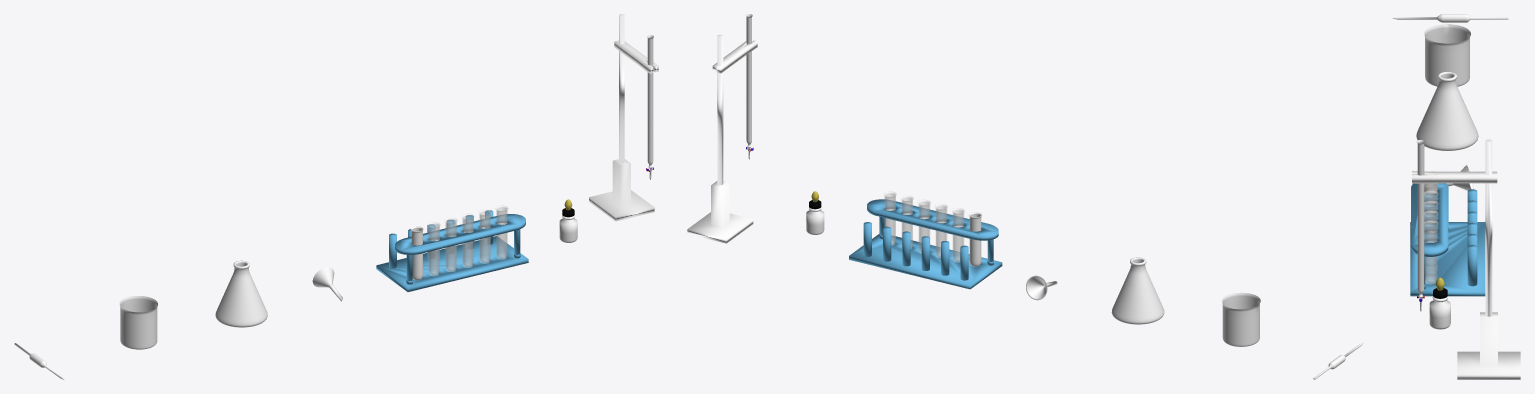
The model's file is experiment_02[1].gltf.
3 views of the same model, side by side, from view 1: azimuth 30°, elevation 25°; view 2: azimuth 150°, elevation 25°; view 3: azimuth 270°, elevation 25° (orthographic). The views are drawn at different scales.
Visible parts, largest first — view 1: TEST TUBE STAND, EFlask.001, 100 mL Beaker, Stand.001, burette, Stand.002, Stand; view 2: TEST TUBE STAND, EFlask.001, 100 mL Beaker, Stand.001, Stand.002, burette, Cylinder.001; view 3: TEST TUBE STAND, EFlask.001, Stand.001, 100 mL Beaker, Stand.002, burette, Stand, Cylinder.007, sipper.002, BURRET, Cylinder.006, sipper.001 (+5 smaller).
Part boxes in pixels (x1,y1,x2,y2): TEST TUBE STAND: (376, 210, 528, 291); EFlask.001: (215, 260, 267, 327); 100 mL Beaker: (119, 296, 157, 349); Stand.001: (589, 159, 654, 221); burette: (647, 35, 653, 179); Stand.002: (619, 14, 624, 163); Stand: (614, 40, 658, 73); TEST TUBE STAND: (849, 199, 1002, 289); EFlask.001: (1111, 257, 1164, 324); 100 mL Beaker: (1222, 292, 1260, 346); Stand.001: (687, 181, 753, 243); Stand.002: (717, 34, 723, 184); burette: (745, 14, 752, 159); Cylinder.001: (969, 212, 982, 266); TEST TUBE STAND: (1410, 183, 1485, 296); EFlask.001: (1416, 71, 1478, 150); Stand.001: (1457, 312, 1520, 379); 100 mL Beaker: (1424, 23, 1470, 86); Stand.002: (1485, 139, 1492, 316); burette: (1416, 139, 1424, 311); Stand: (1412, 171, 1497, 183); Cylinder.007: (1424, 220, 1438, 283); sipper.002: (1429, 296, 1450, 329); BURRET: (1392, 14, 1508, 22); Cylinder.006: (1424, 210, 1438, 267); sipper.001: (1433, 277, 1447, 298).
Size of what is drawn, in the model's own units: 25.33 by 7.51 by 3.81.
